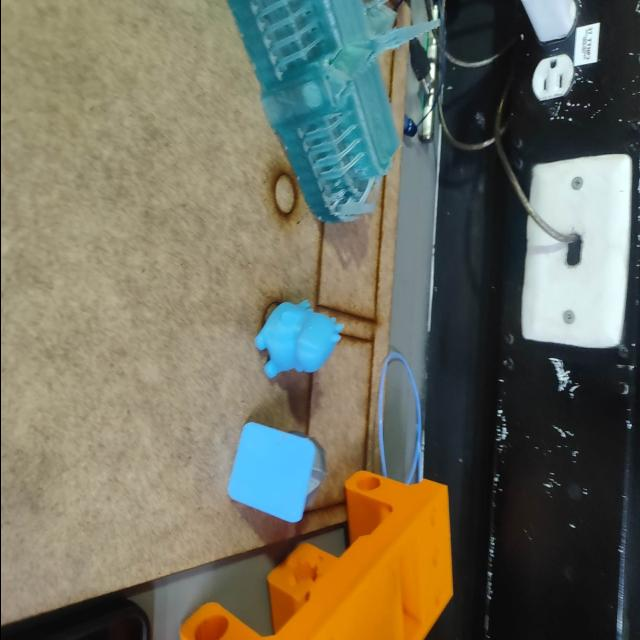DINO: (250, 281, 345, 393)
